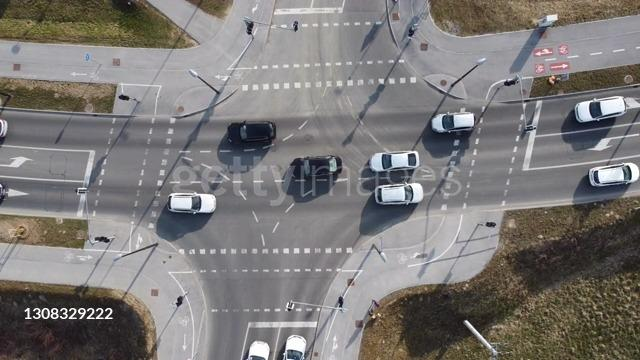car: (569, 95, 631, 123), (584, 160, 640, 190), (364, 150, 424, 172), (227, 120, 280, 144), (291, 156, 347, 178), (166, 193, 218, 215), (372, 183, 426, 203), (429, 112, 477, 134), (279, 330, 309, 360), (248, 338, 272, 360), (0, 118, 10, 142), (1, 179, 8, 205)
